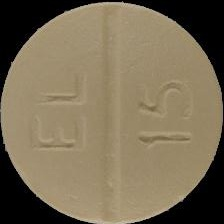68094-853: (0, 0, 224, 224)
